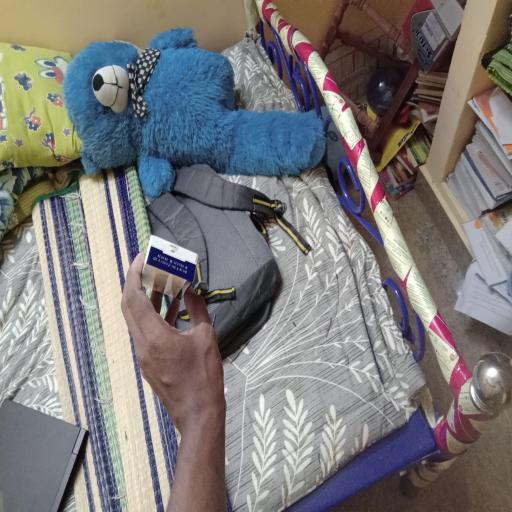Dove`1: (136, 236, 202, 306)
